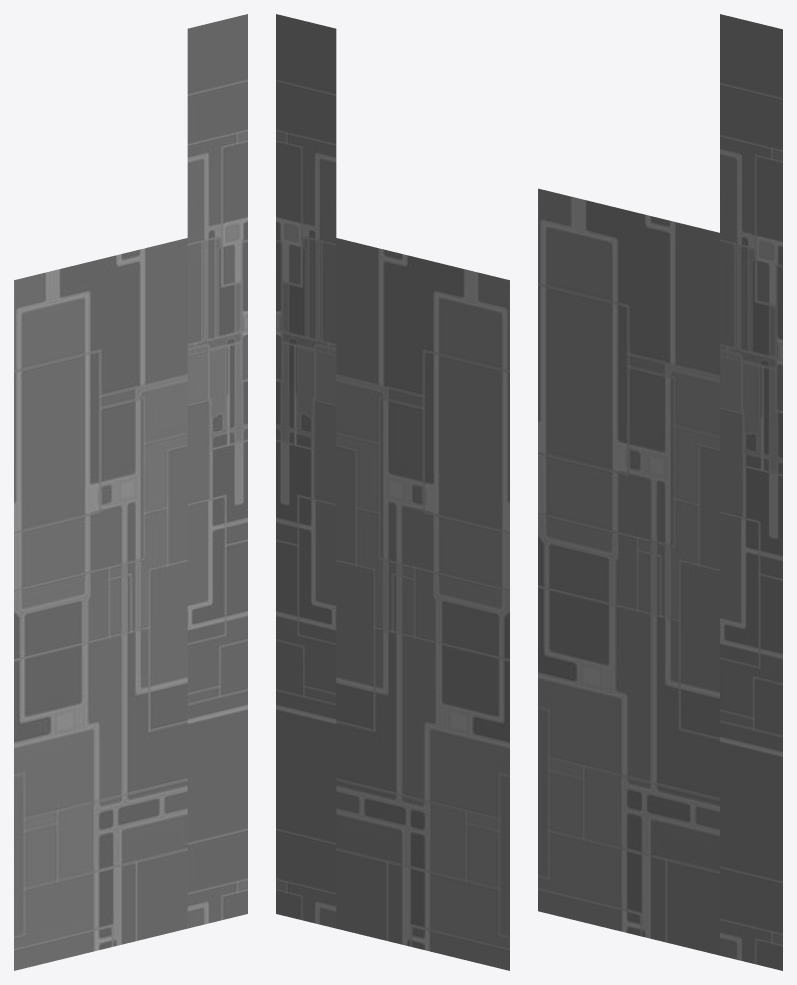
File: SM_Pannel_part_01.glb
3 views of the same model, side by side, from view 1: azimuth 30°, elevation 25°; view 2: azimuth 150°, elevation 25°; view 3: azimuth 330°, elevation 25° (orthographic). The views are drawn at different scales.
Parts seen in each view (by area): view 1: SM_Pannel_part_01; view 2: SM_Pannel_part_01; view 3: SM_Pannel_part_01.
Part boxes in pixels (box(x1,y1,x2,y2)): SM_Pannel_part_01: box(14, 14, 247, 970); SM_Pannel_part_01: box(276, 14, 509, 970); SM_Pannel_part_01: box(538, 14, 782, 970).
Bounding box in the file's own units: 1.13 × 4.15 × 7.26e-07.
1 material, 1 textured.
